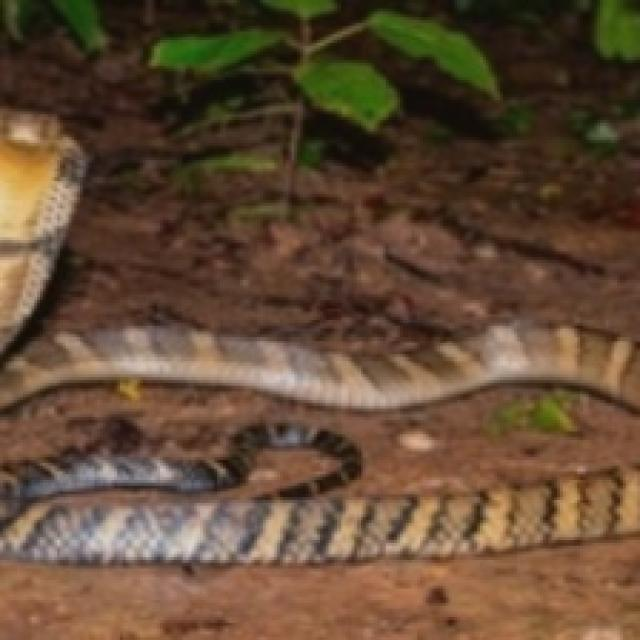king cobra: (0, 109, 637, 560)
